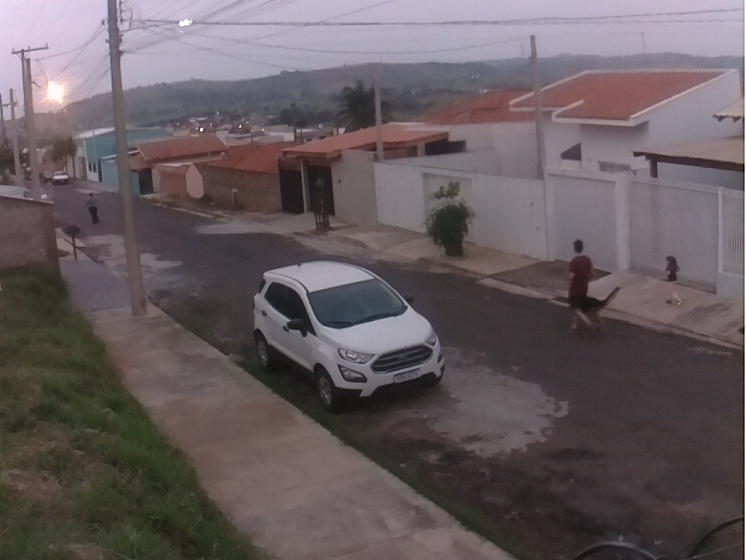person: (562, 238, 601, 338), (662, 255, 686, 307), (84, 191, 102, 226)
